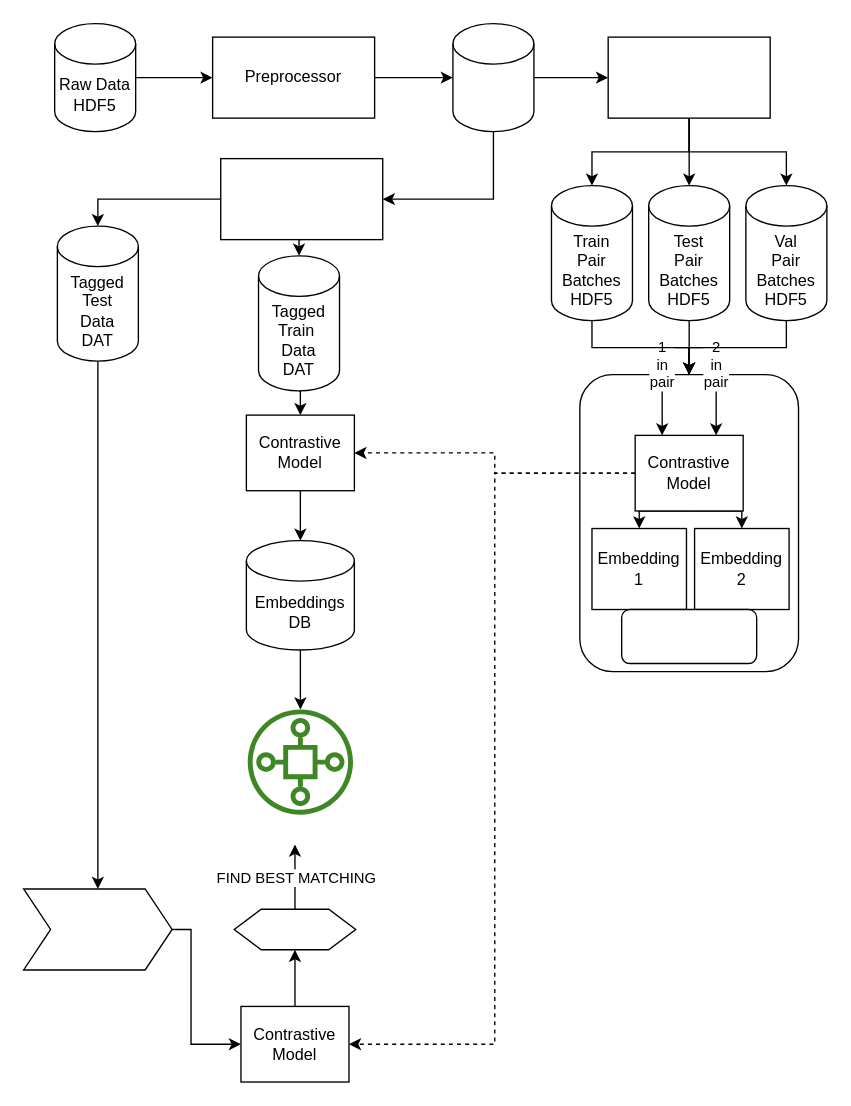
The diagram is 851 pixels wide and 1106 high, and some of its shapes have lost their labels. Each missing label, with the centre of its shape:
Batch Splitter: the point at 301,198
Contrastive Loss: the point at 688,636
K-NN: the point at 299,761
New IMU Embedding: the point at 294,929
Processed Data HDF5: the point at 493,77
Train Test Val Pair Batch Generator: the point at 688,77
Unseen IMU Seq.: the point at 97,929
